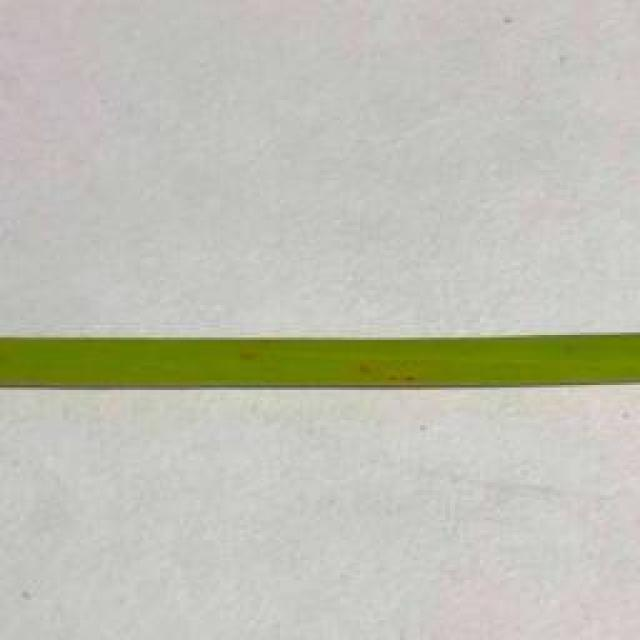Brown_Spot: (335, 345, 391, 396), (218, 339, 276, 373), (377, 365, 427, 398), (560, 344, 576, 361)
